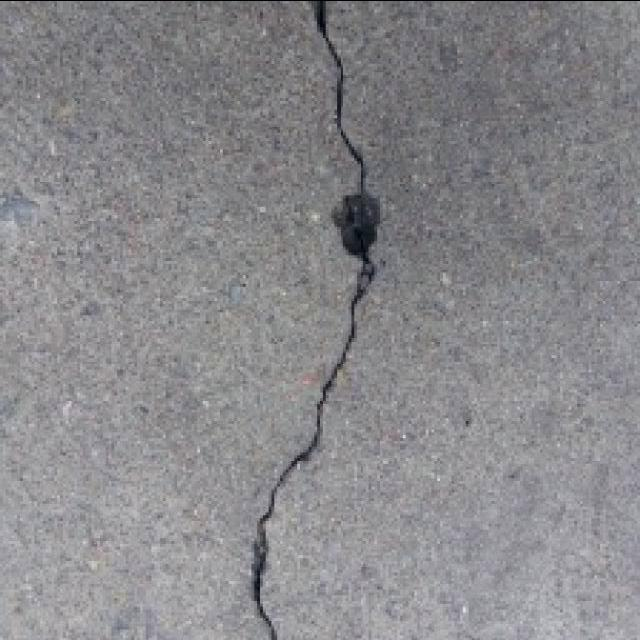SurfaceCrack: (222, 0, 396, 640)
